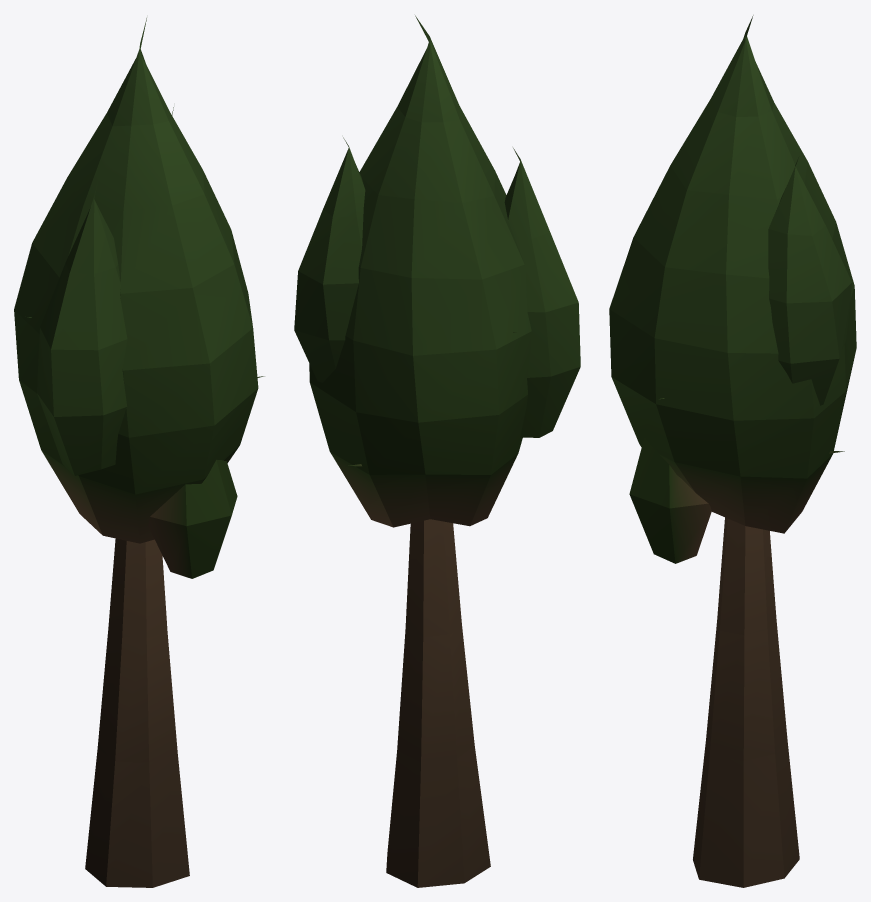
The model's file is meadow-tree.glb.
The picture shows the model from 3 angles, left to right: view 1: azimuth 30°, elevation 25°; view 2: azimuth 150°, elevation 25°; view 3: azimuth 270°, elevation 25°; orthographic projection.
Parts seen in each view (by area): view 1: meadow_tree; view 2: meadow_tree; view 3: meadow_tree.
Boxes of the visible parts, bbox=[...] form: meadow_tree: bbox=[14, 18, 264, 887]; meadow_tree: bbox=[294, 15, 580, 887]; meadow_tree: bbox=[609, 15, 856, 887].
Bounding box in the file's own units: 0.2708 × 1 × 0.262.
